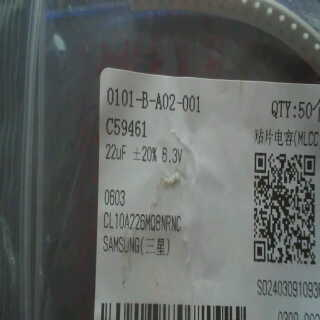22uF: (102, 142, 134, 165)
